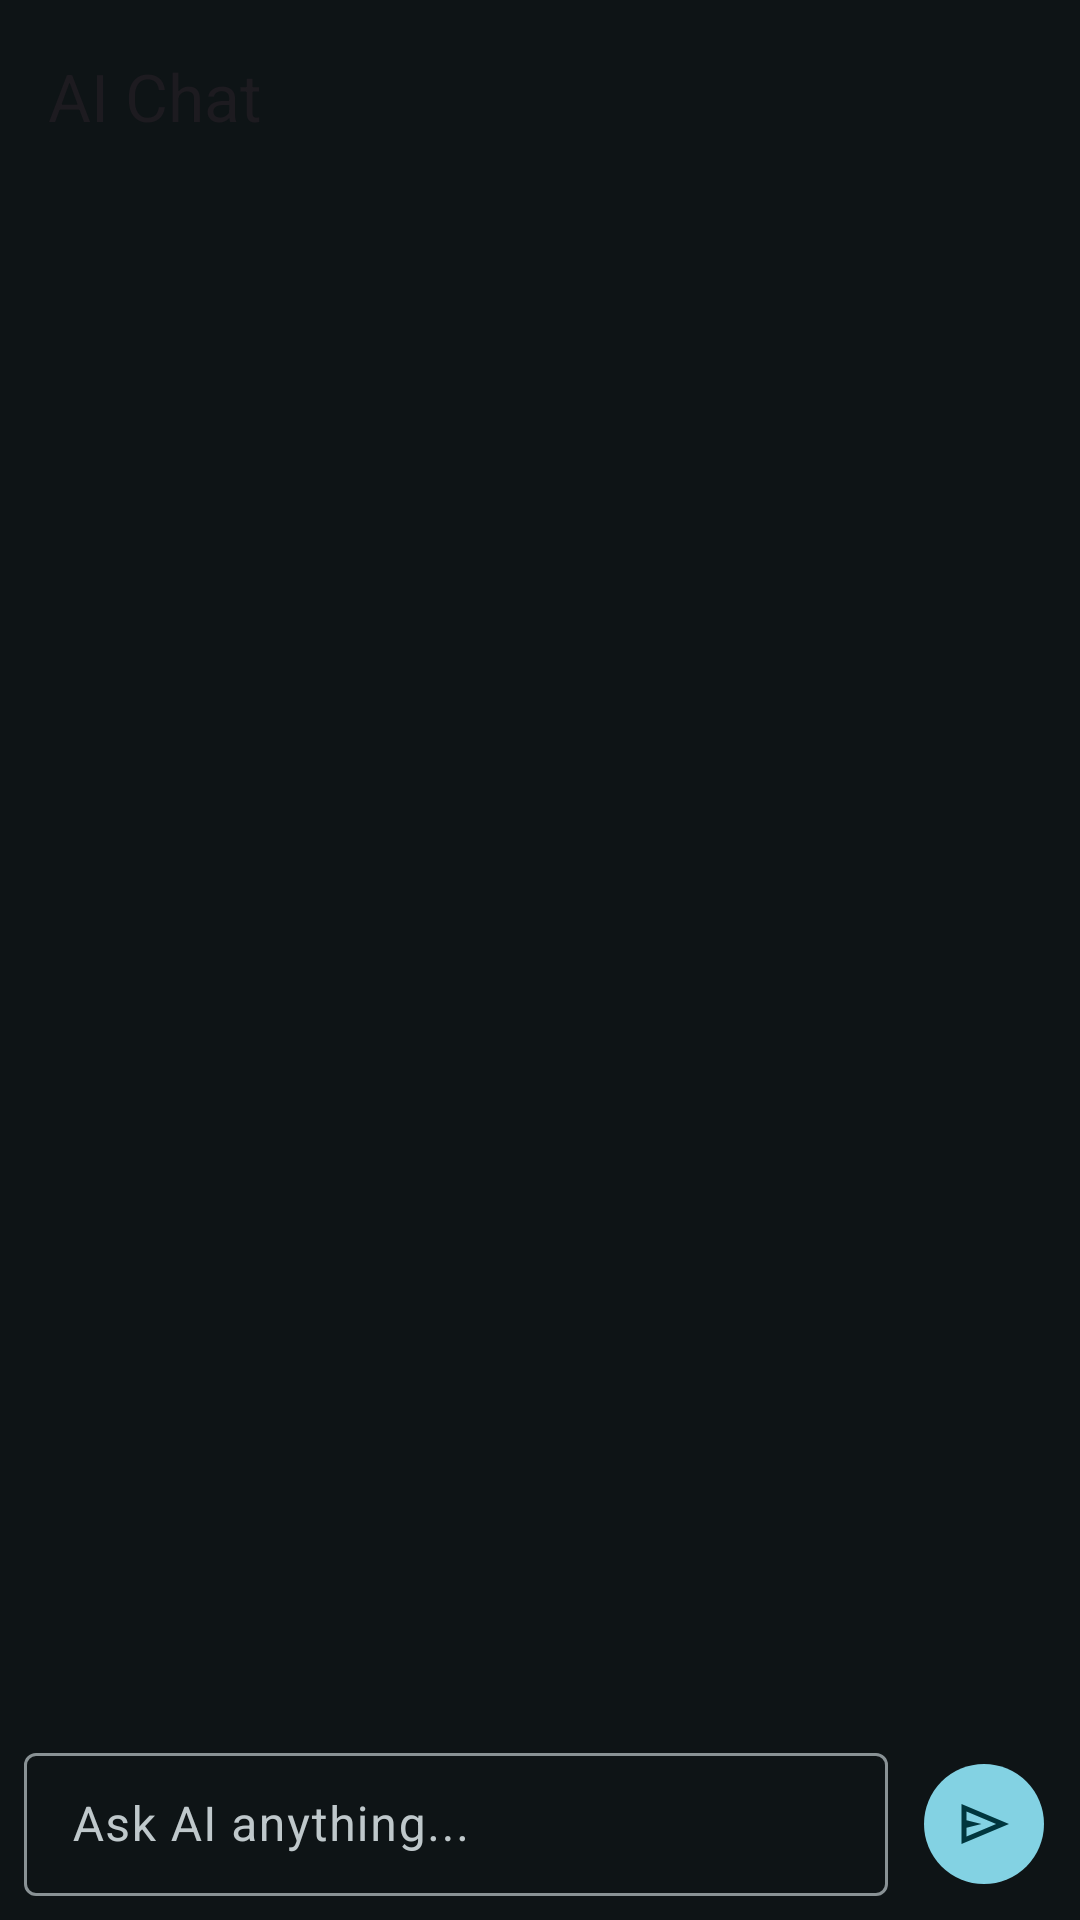

Icon click points for this 1080×1920 phone screenshot, format point (x, y):
send: point (984, 1824)
